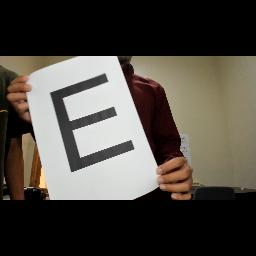e: (46, 69, 142, 179)
